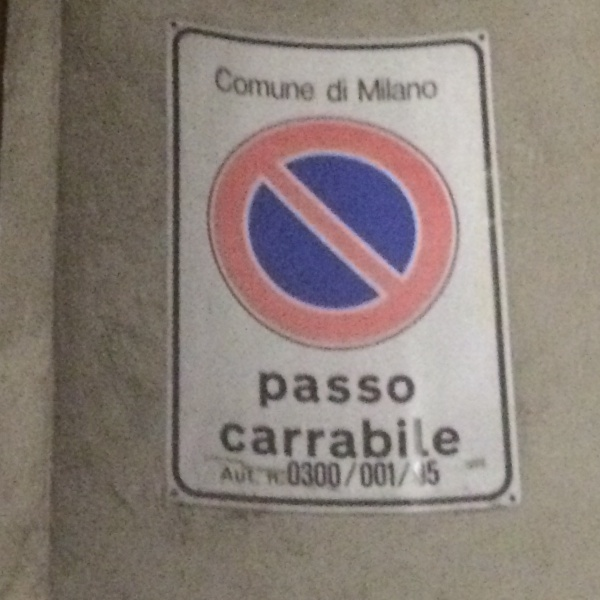text: (225, 417, 240, 462), (241, 417, 256, 462), (257, 417, 272, 462), (273, 417, 288, 462), (289, 417, 304, 462), (305, 417, 320, 462), (321, 417, 336, 462), (337, 417, 352, 462), (353, 417, 368, 462), (369, 417, 384, 462), (385, 417, 400, 462), (401, 417, 416, 462), (417, 417, 432, 462), (433, 417, 448, 462), (401, 368, 417, 410), (225, 63, 240, 107), (241, 63, 256, 107), (257, 63, 272, 107), (273, 63, 288, 107), (289, 63, 304, 107), (257, 368, 272, 410), (273, 368, 288, 410), (289, 368, 304, 410), (305, 368, 320, 410), (321, 368, 336, 410), (337, 368, 352, 410), (353, 368, 368, 410), (369, 368, 384, 410), (385, 368, 400, 410), (449, 417, 462, 462), (289, 459, 304, 496), (305, 459, 320, 496), (321, 459, 336, 496), (337, 459, 352, 496), (353, 459, 368, 496), (369, 459, 384, 496), (385, 459, 400, 496), (305, 63, 316, 107), (401, 459, 413, 496), (369, 76, 384, 104), (385, 76, 400, 104), (401, 76, 416, 104), (417, 76, 432, 104), (418, 459, 432, 489), (215, 63, 224, 107), (225, 463, 240, 488), (241, 463, 256, 488), (337, 78, 349, 105), (357, 76, 368, 104), (326, 78, 336, 105), (433, 459, 441, 489), (219, 417, 224, 462), (433, 76, 439, 104), (257, 463, 261, 488), (222, 463, 224, 488), (287, 459, 288, 496)
